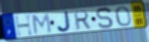H: (13, 13, 35, 38)
J: (56, 10, 73, 34)
M: (31, 13, 53, 35)
O: (115, 5, 133, 27)
R: (74, 10, 92, 32)
S: (96, 6, 115, 30)
